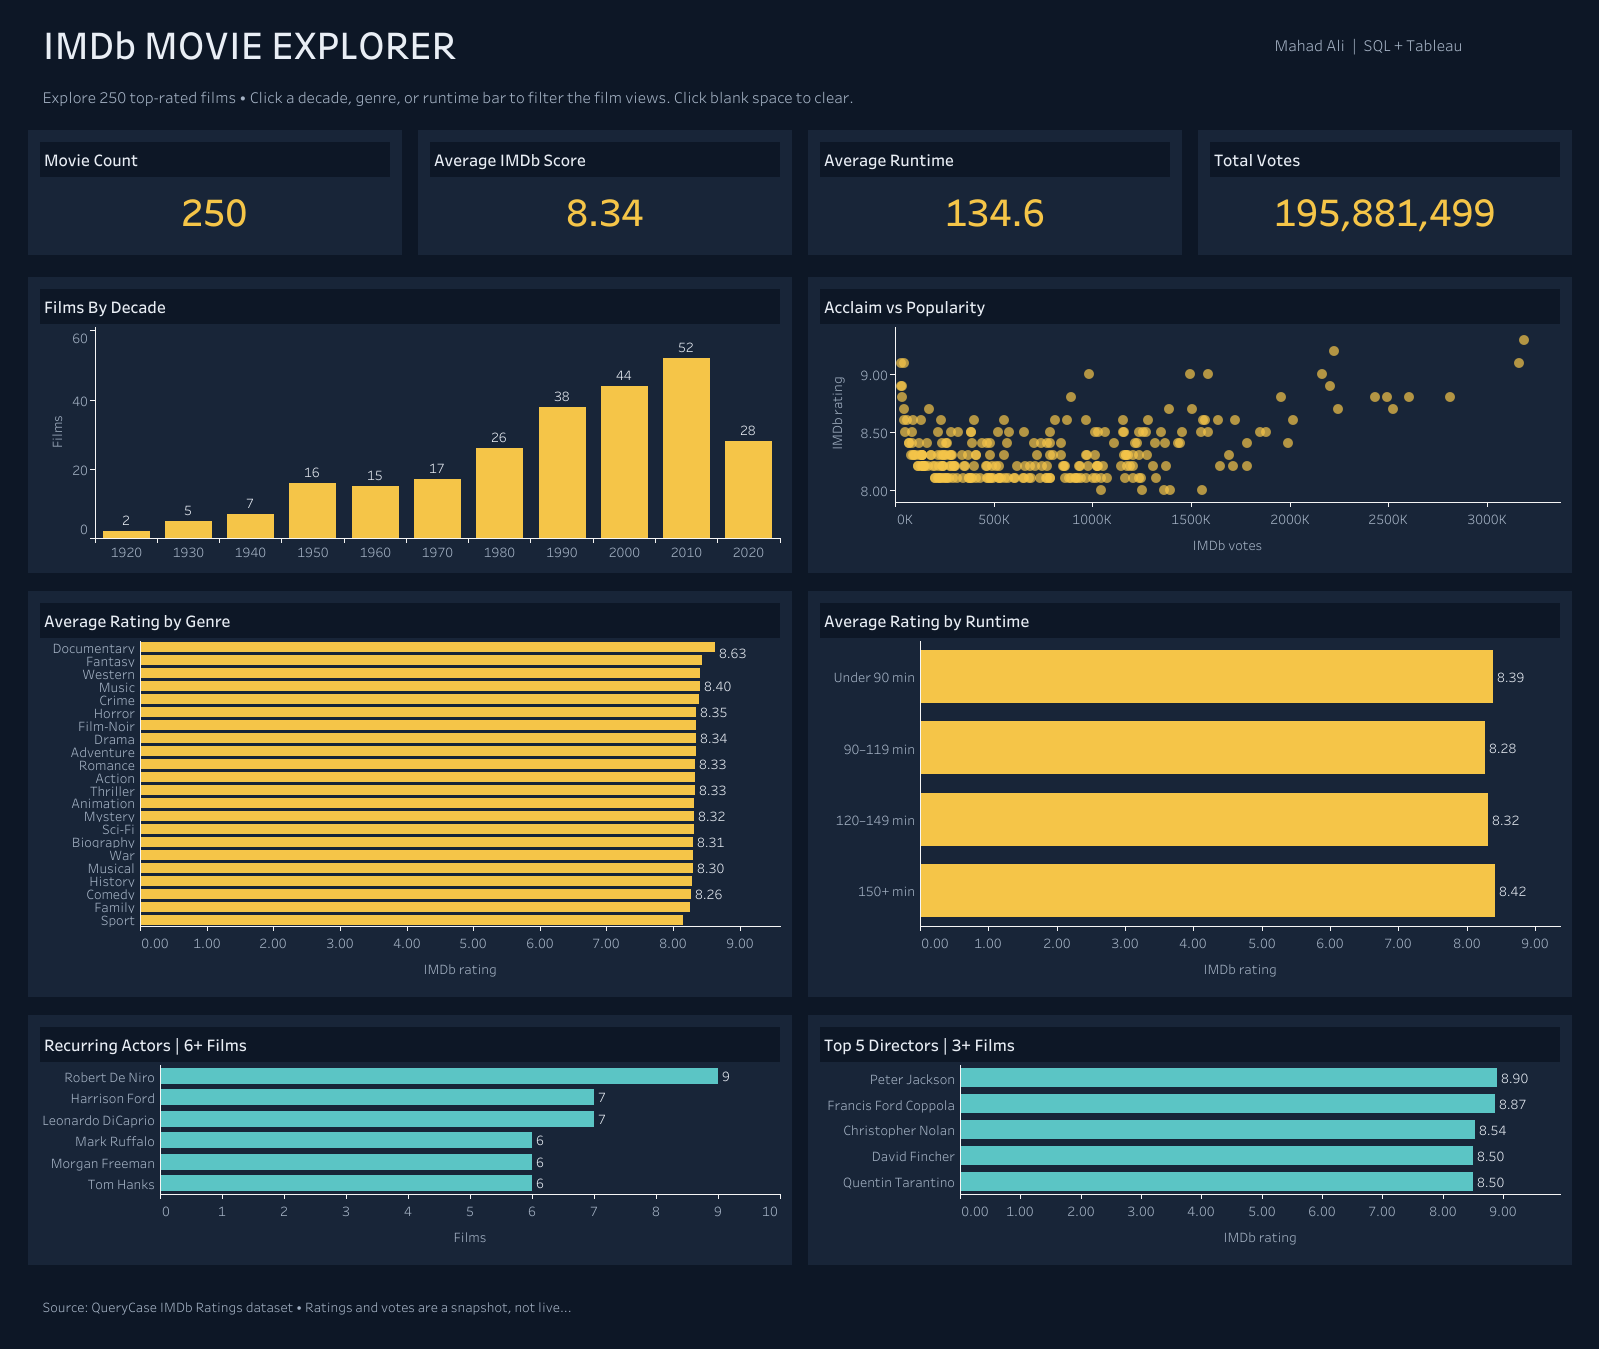

The page's visual inventory and layout, read from the dashboard file:
{"tool":"tableau","page":{"name":"IMDb Movie Explorer","canvas":[1600,1350],"ordinal":0},"visuals":[{"type":"text","box":[28,14,1200,60]},{"type":"text","box":[1260,25,312,40]},{"type":"text","box":[28,74,1544,45]},{"type":"worksheet","title":"Movie Count","mark":"Automatic","box":[28,130,374,125]},{"type":"worksheet","title":"Average IMDb Score","mark":"Automatic","box":[418,130,374,125]},{"type":"worksheet","title":"Average Runtime","mark":"Automatic","box":[808,130,374,125]},{"type":"worksheet","title":"Total Votes","mark":"Automatic","box":[1198,130,374,125]},{"type":"worksheet","title":"Films By Decade","mark":"Bar","rows":["movie_id"],"cols":["decade"],"box":[28,277,764,296]},{"type":"worksheet","title":"Acclaim vs Popularity","mark":"Circle","rows":["imdb_score"],"cols":["vote_count"],"box":[808,277,764,296]},{"type":"worksheet","title":"Rated Genres","mark":"Bar","rows":["genre"],"cols":["imdb_score (film_genres.csv)"],"box":[28,591,764,406]},{"type":"worksheet","title":"Runtime vs Rating","mark":"Bar","rows":["runtime_group"],"cols":["imdb_score"],"box":[808,591,764,406]},{"type":"worksheet","title":"Recurring Actors","mark":"Bar","rows":["actor"],"cols":["film_count"],"box":[28,1015,764,250]},{"type":"worksheet","title":"Highest-Rated Directors (3+ Films)","mark":"Bar","rows":["director"],"cols":["avg_score"],"box":[808,1015,764,250]},{"type":"text","box":[28,1276,1544,60]}]}

Visuals, with their boxes in screenshot pixels (x1, y1, x2, y2), scaled from the page's 1600x1350 canvas onto the 1599x1349 screenshot:
text: bbox=(28, 14, 1227, 74)
text: bbox=(1259, 25, 1571, 65)
text: bbox=(28, 74, 1571, 119)
"Movie Count" worksheet: bbox=(28, 130, 402, 255)
"Average IMDb Score" worksheet: bbox=(418, 130, 792, 255)
"Average Runtime" worksheet: bbox=(807, 130, 1181, 255)
"Total Votes" worksheet: bbox=(1197, 130, 1571, 255)
"Films By Decade" worksheet (Bar marks): bbox=(28, 277, 792, 573)
"Acclaim vs Popularity" worksheet (Circle marks): bbox=(807, 277, 1571, 573)
"Rated Genres" worksheet (Bar marks): bbox=(28, 591, 792, 996)
"Runtime vs Rating" worksheet (Bar marks): bbox=(807, 591, 1571, 996)
"Recurring Actors" worksheet (Bar marks): bbox=(28, 1014, 792, 1264)
"Highest-Rated Directors (3+ Films)" worksheet (Bar marks): bbox=(807, 1014, 1571, 1264)
text: bbox=(28, 1275, 1571, 1335)
